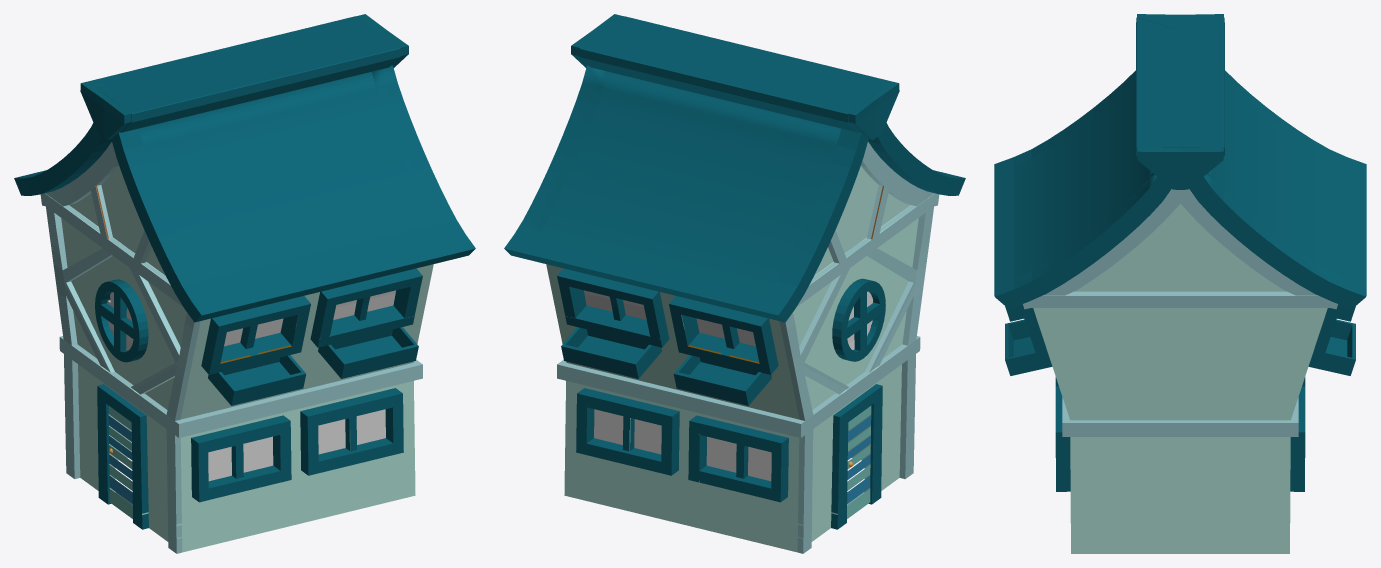
Rendered from building_blue.fbx.
3 views of the same model, side by side, from view 1: azimuth 30°, elevation 25°; view 2: azimuth 150°, elevation 25°; view 3: azimuth 270°, elevation 25° (orthographic).
Parts seen in each view (by area): view 1: Building_blue; view 2: Building_blue; view 3: Building_blue.
Part boxes in pixels (bbox=[...]): Building_blue: bbox=[14, 14, 475, 553]; Building_blue: bbox=[504, 14, 965, 553]; Building_blue: bbox=[994, 14, 1366, 553].
Size of the model in its own units: 652 by 917 by 744.
